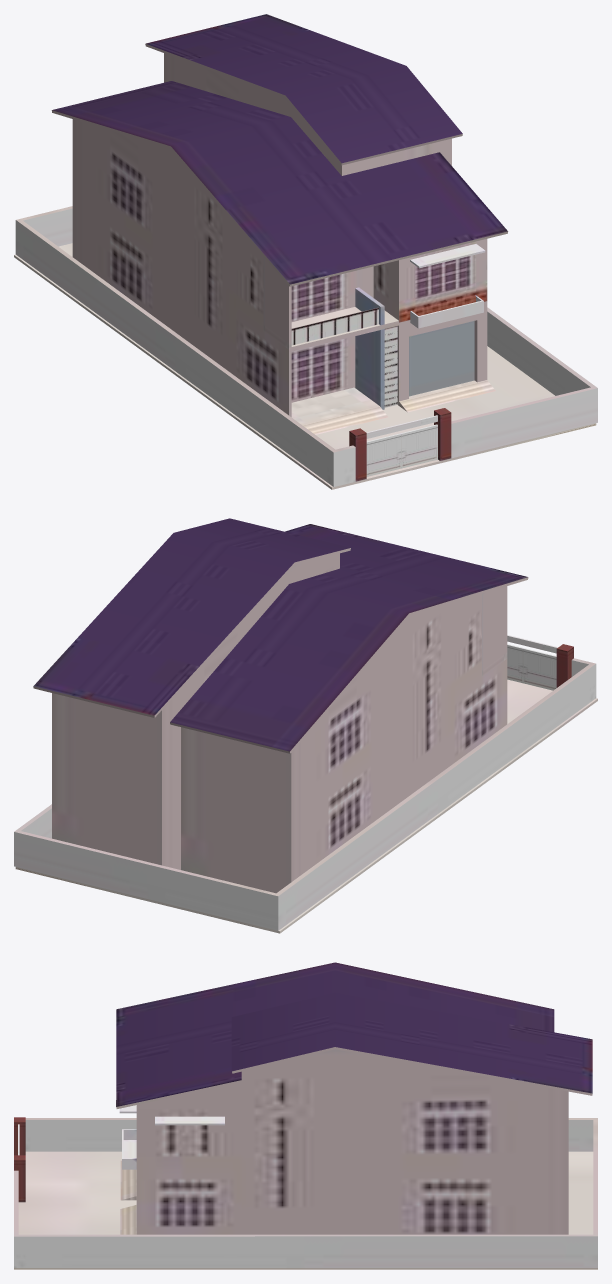
3 views of the same model, one above another, from view 1: azimuth 30°, elevation 25°; view 2: azimuth 150°, elevation 25°; view 3: azimuth 270°, elevation 25° (orthographic). The views are drawn at different scales.
Parts seen in each view (by area): view 1: 5d09d7abefc9f8d980548dae.001; view 2: 5d09d7abefc9f8d980548dae.001; view 3: 5d09d7abefc9f8d980548dae.001.
Boxes of the visible parts, box(x1,y1,x2,y2) form: 5d09d7abefc9f8d980548dae.001: box(14, 14, 597, 489); 5d09d7abefc9f8d980548dae.001: box(14, 518, 597, 933); 5d09d7abefc9f8d980548dae.001: box(14, 962, 597, 1269).
Size of the model in its own units: 12.08 by 10.56 by 25.
1 material, 1 textured.
